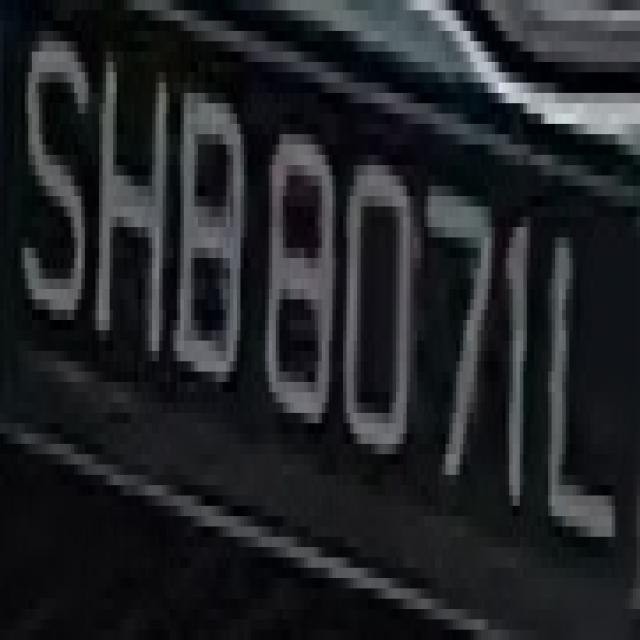0: (343, 113, 417, 496)
1: (495, 155, 541, 588)
7: (421, 124, 495, 516)
8: (251, 103, 336, 485)
B: (170, 62, 251, 413)
H: (99, 62, 177, 392)
L: (530, 166, 612, 588)
S: (25, 31, 88, 341)
